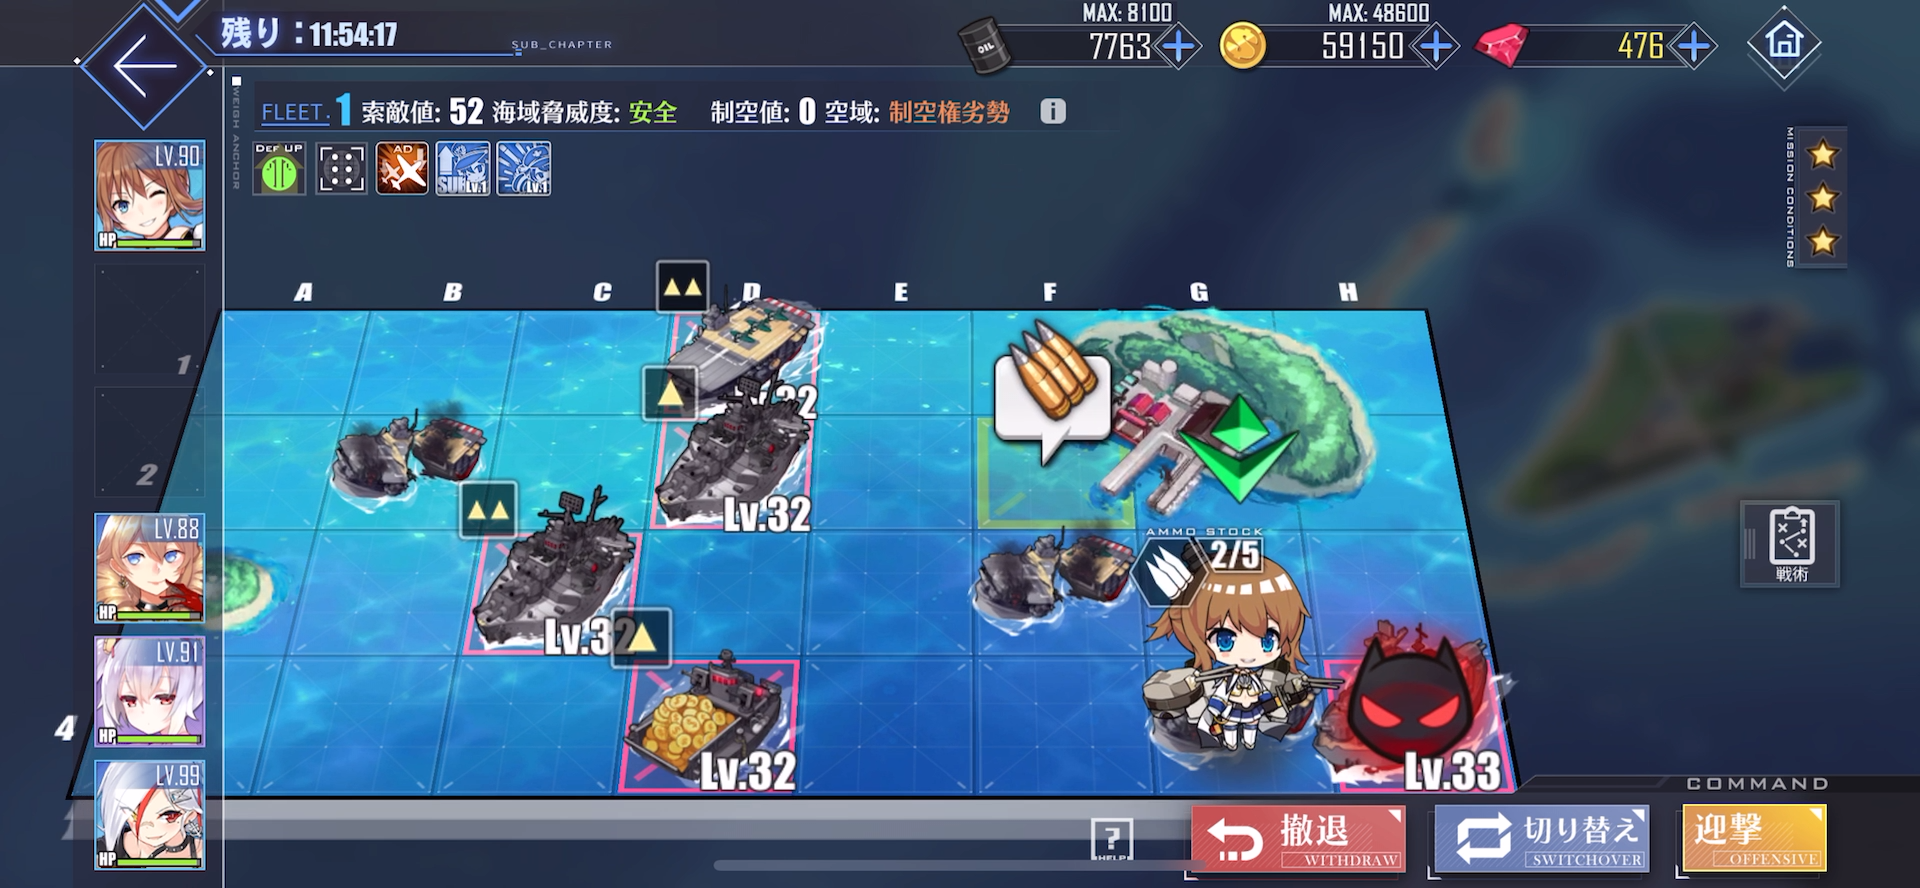boss: (1314, 604, 1504, 774)
lv1: (618, 608, 786, 790), (645, 366, 797, 532)
lv2: (458, 479, 633, 650), (642, 254, 823, 404)
